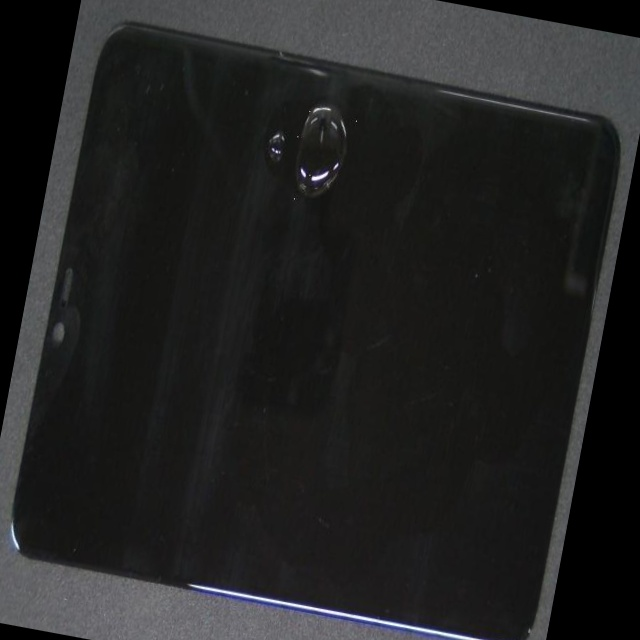oil: (153, 0, 437, 261), (169, 18, 402, 209)
